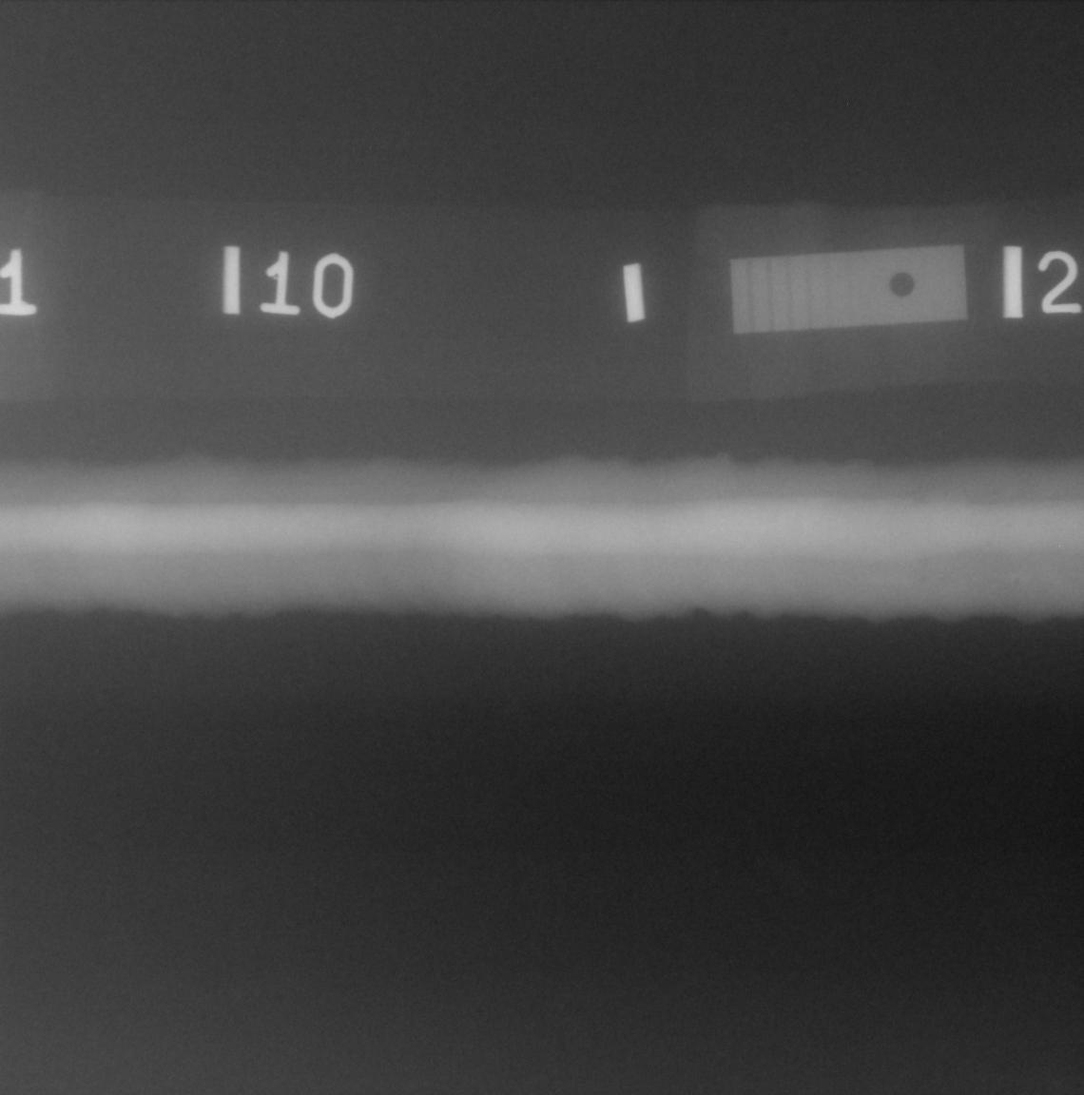Inclusion: (983, 537, 993, 549), (919, 576, 927, 587), (382, 574, 390, 582)
Pore/Porosity: (1009, 558, 1025, 575), (1004, 520, 1013, 529), (1013, 577, 1021, 586), (1003, 568, 1012, 576)
Reference Standard 1: (729, 244, 968, 334)
